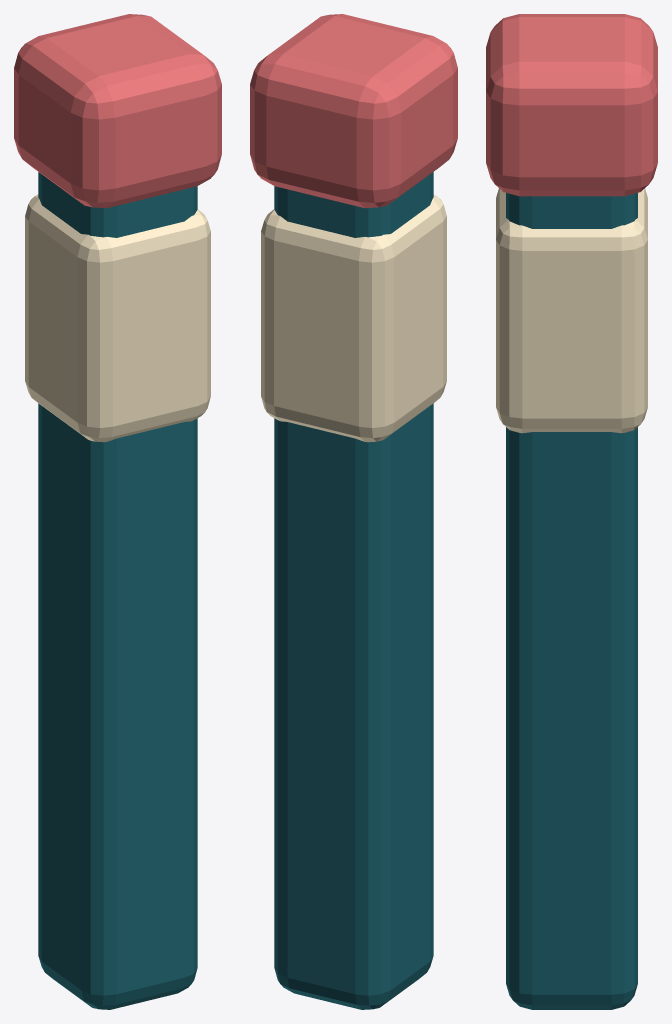
Rendered from race_edge_marker.glb.
3 renders of one model, left to right at view 1: azimuth 30°, elevation 25°; view 2: azimuth 150°, elevation 25°; view 3: azimuth 270°, elevation 25°, orthographic.
Visible parts, largest first — view 1: race_edge_marker; view 2: race_edge_marker; view 3: race_edge_marker.
Boxes of the visible parts, x1=… form: race_edge_marker: x1=14, y1=14, x2=221, y2=1009; race_edge_marker: x1=250, y1=14, x2=457, y2=1009; race_edge_marker: x1=486, y1=14, x2=657, y2=1009.
Size of the model in its own units: 0.26 by 1.59 by 0.26.
